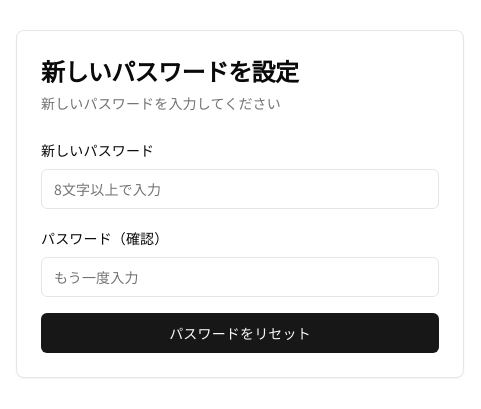
Scenario: ResetPasswordPage › should validate password confirmation match
Type "password123" into the password field labelled "新しいパスワード" at [240, 189], box [41,169,439,209]
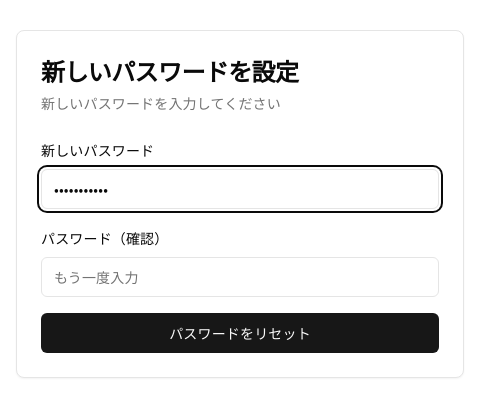
Type "password456" into the password field labelled "パスワード（確認）" at [240, 277], box [41,257,439,297]
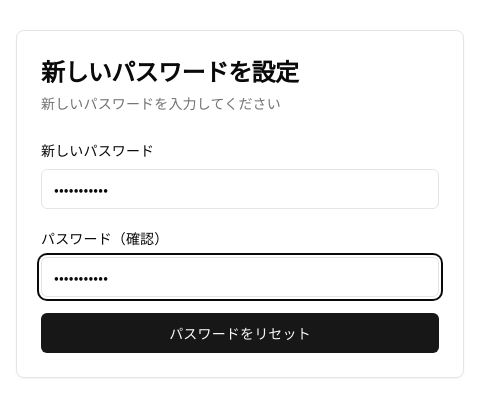
Click the button "パスワードをリセット" at [240, 333], box [41,313,439,353]
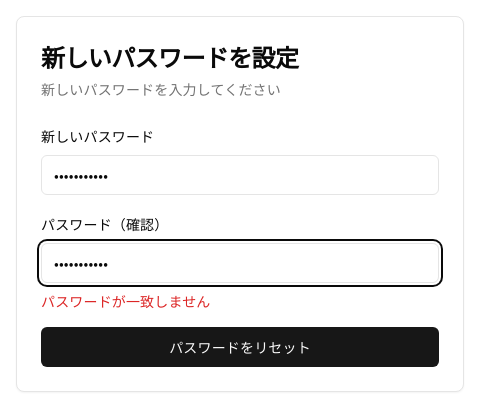
Result: the text "パスワードが一致しません" is shown at [41,291,210,311]
